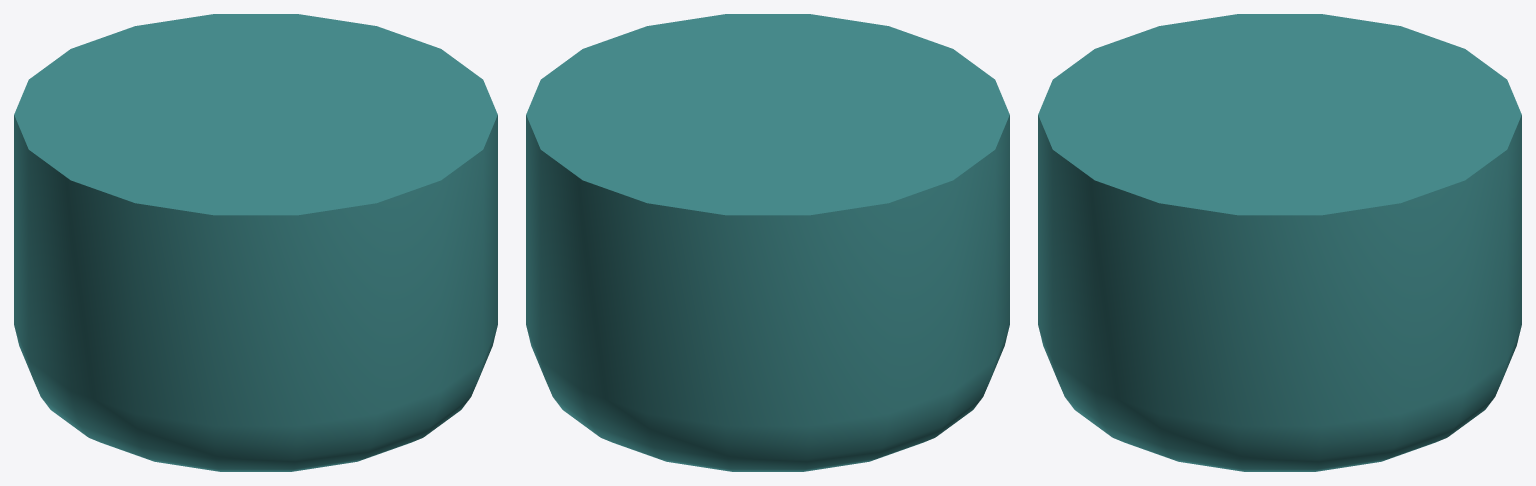
The model's file is SM_混合指示剂溶液.fbx.
3 views of the same model, side by side, from view 1: azimuth 30°, elevation 25°; view 2: azimuth 150°, elevation 25°; view 3: azimuth 270°, elevation 25° (orthographic).
Parts seen in each view (by area): view 1: SM_混合指示剂溶液; view 2: SM_混合指示剂溶液; view 3: SM_混合指示剂溶液.
Part boxes in pixels (box(x1,y1,x2,y2)): SM_混合指示剂溶液: box(14, 14, 497, 471); SM_混合指示剂溶液: box(526, 14, 1009, 471); SM_混合指示剂溶液: box(1038, 14, 1521, 471).
Size of the model in its own units: 0.0441 by 0.0279 by 0.0448.
